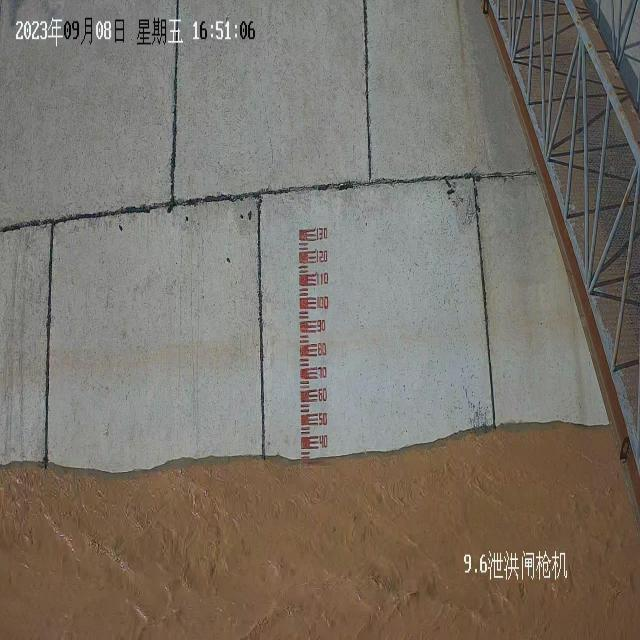ruler: (295, 221, 332, 459)
value: (316, 294, 329, 314), (315, 247, 329, 265), (315, 226, 329, 244), (316, 270, 329, 289), (318, 410, 329, 429), (317, 341, 328, 359), (316, 316, 327, 334), (318, 434, 329, 452), (318, 386, 328, 404), (318, 364, 328, 380)
